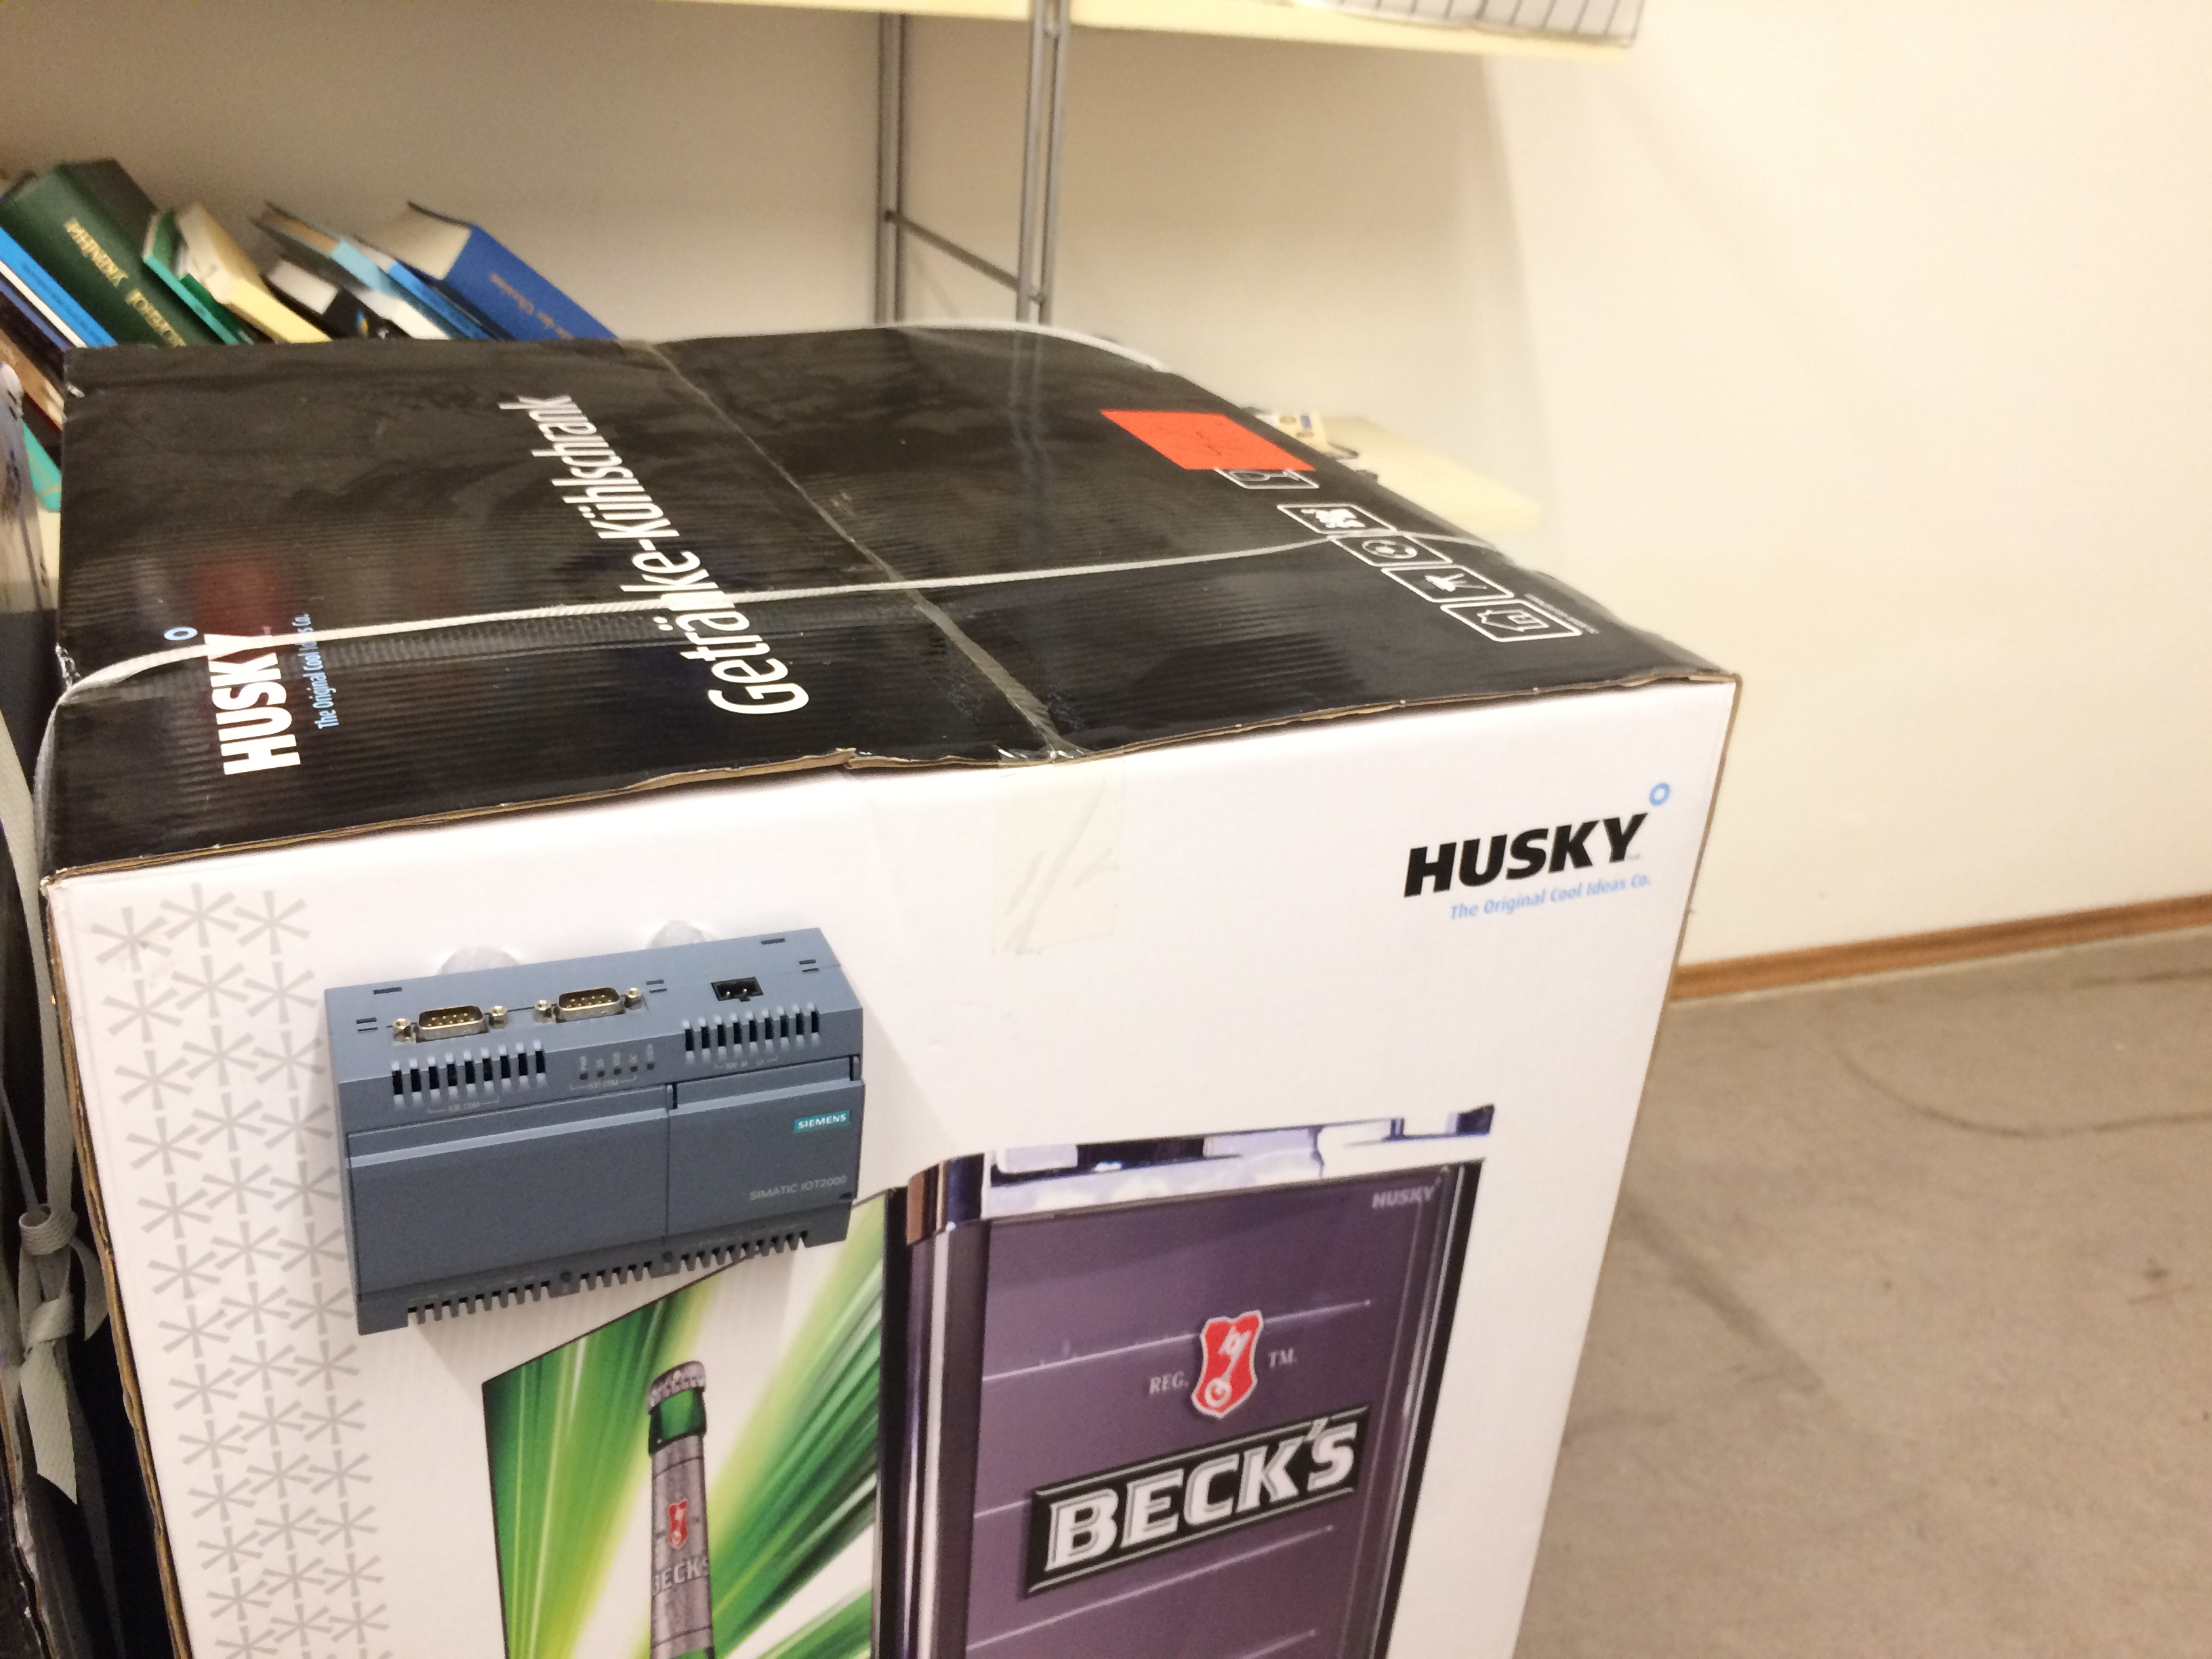iot2000: (322, 922, 871, 1342)
